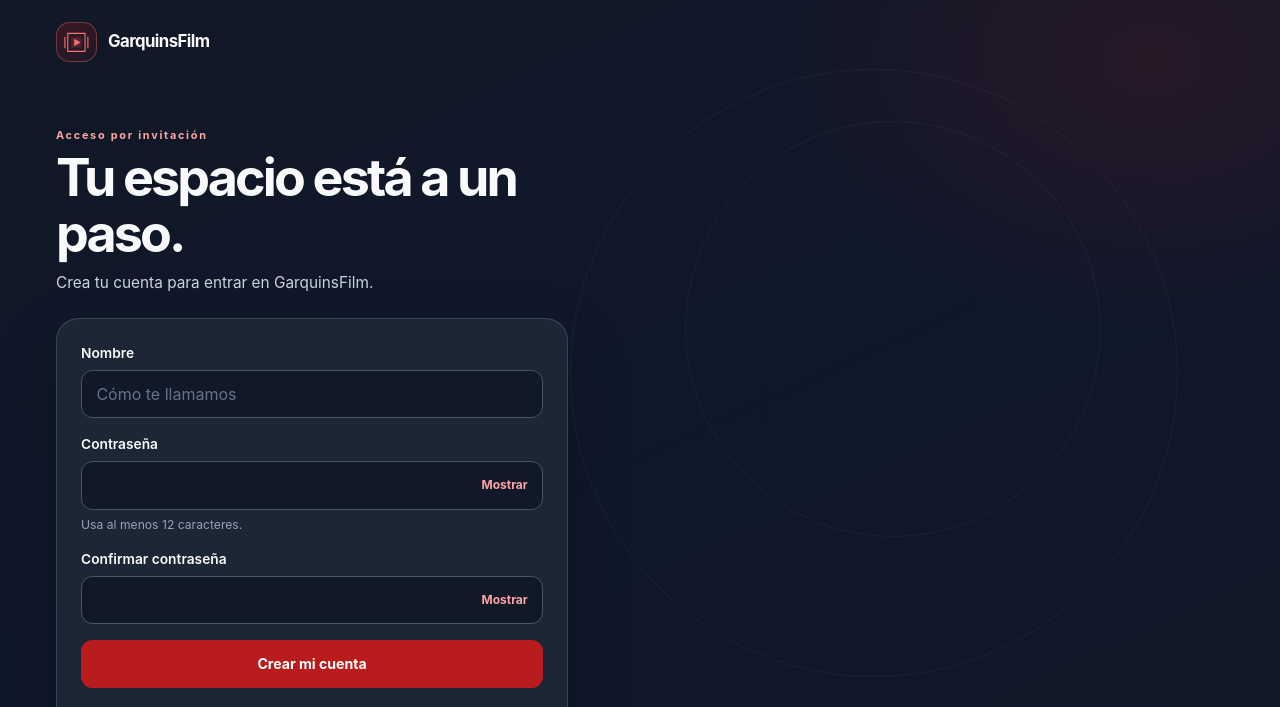
Test case: flujo de autenticación y navegación privada › acepta una invitación válida sin volver a mostrar su token/email en la URL o en la página
This screenshot has width=1280, height=707.
Type "Nueva persona" into the field labelled "Nombre".
click(312, 394); type("Nueva persona")  # box [81,370,543,418]
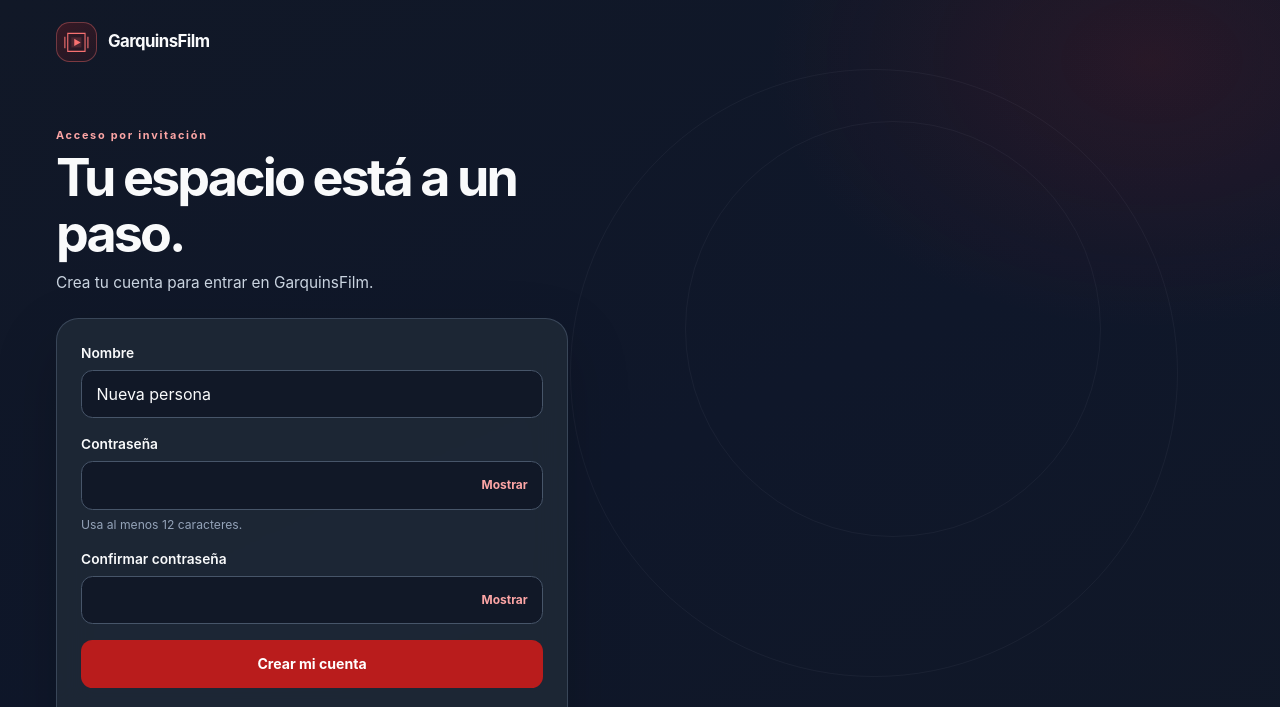
Type "a-secure-password-123" into the password field labelled "Contraseña".
click(312, 485); type("a-secure-password-123")  # box [81,461,543,510]
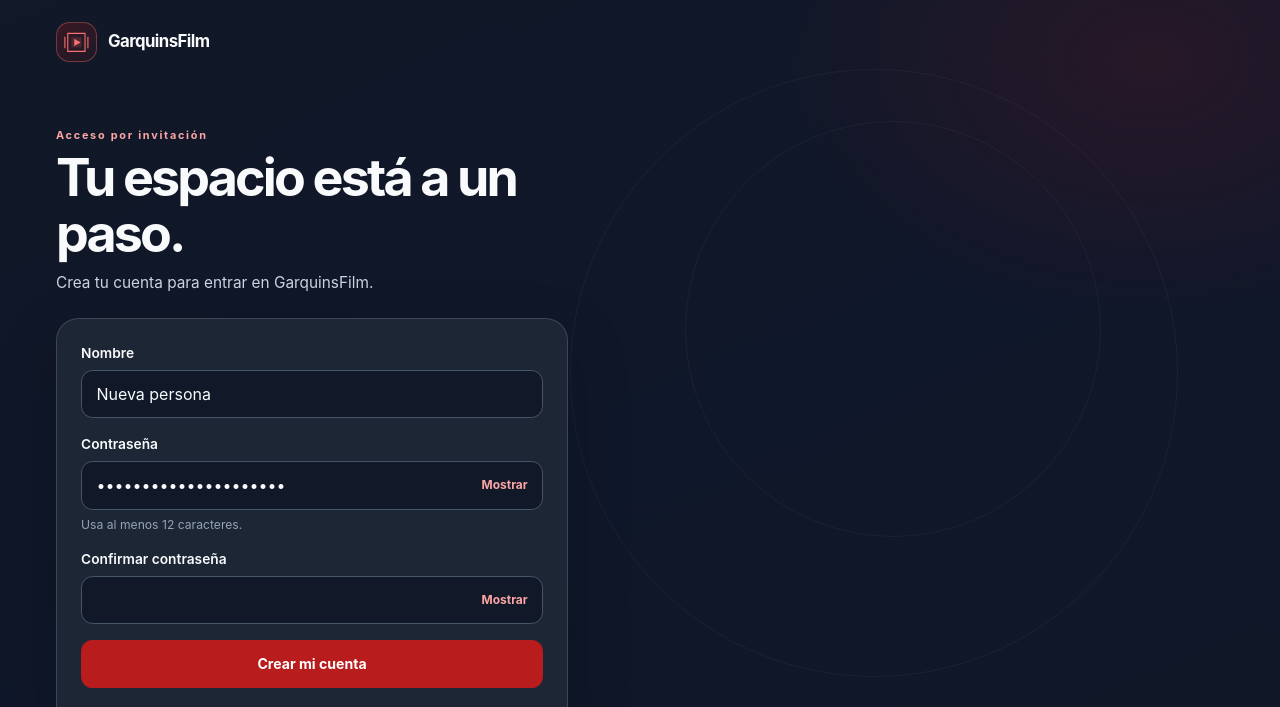
Type "a-secure-password-123" into the password field labelled "Confirmar contraseña".
click(312, 600); type("a-secure-password-123")  # box [81,576,543,624]
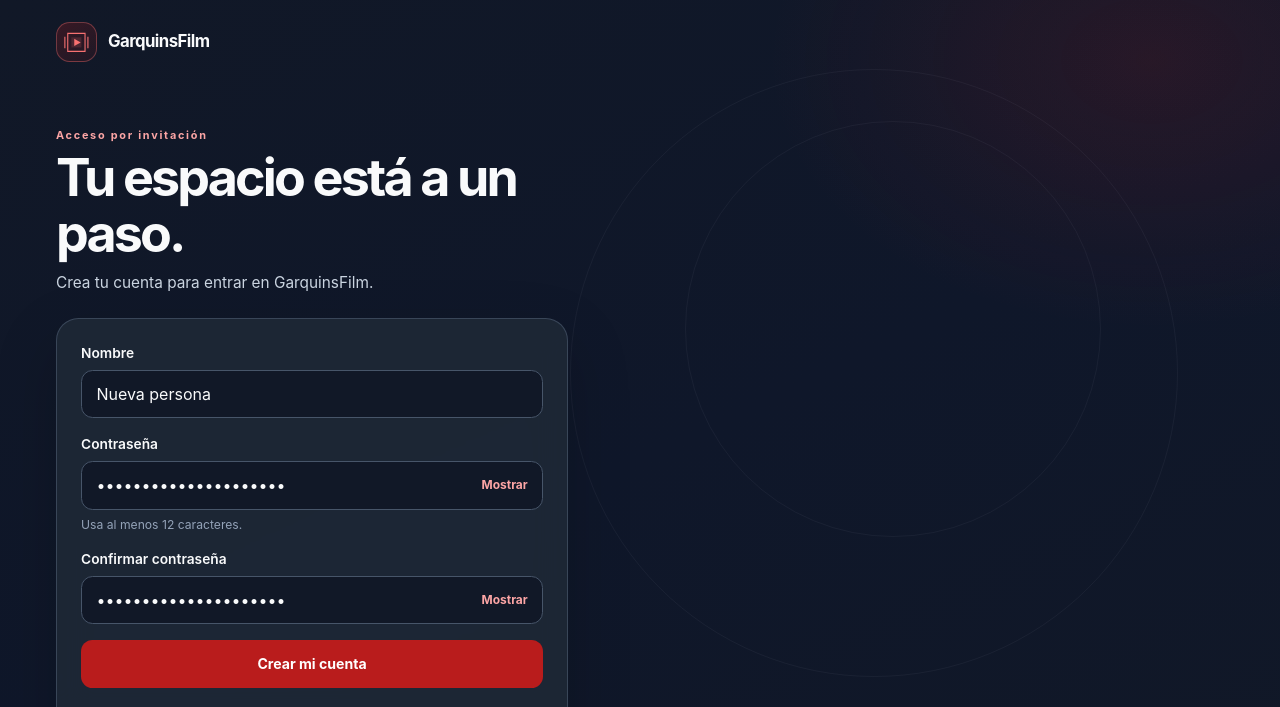
Click the button "Crear mi cuenta".
click(312, 664)  # box [81,640,543,688]
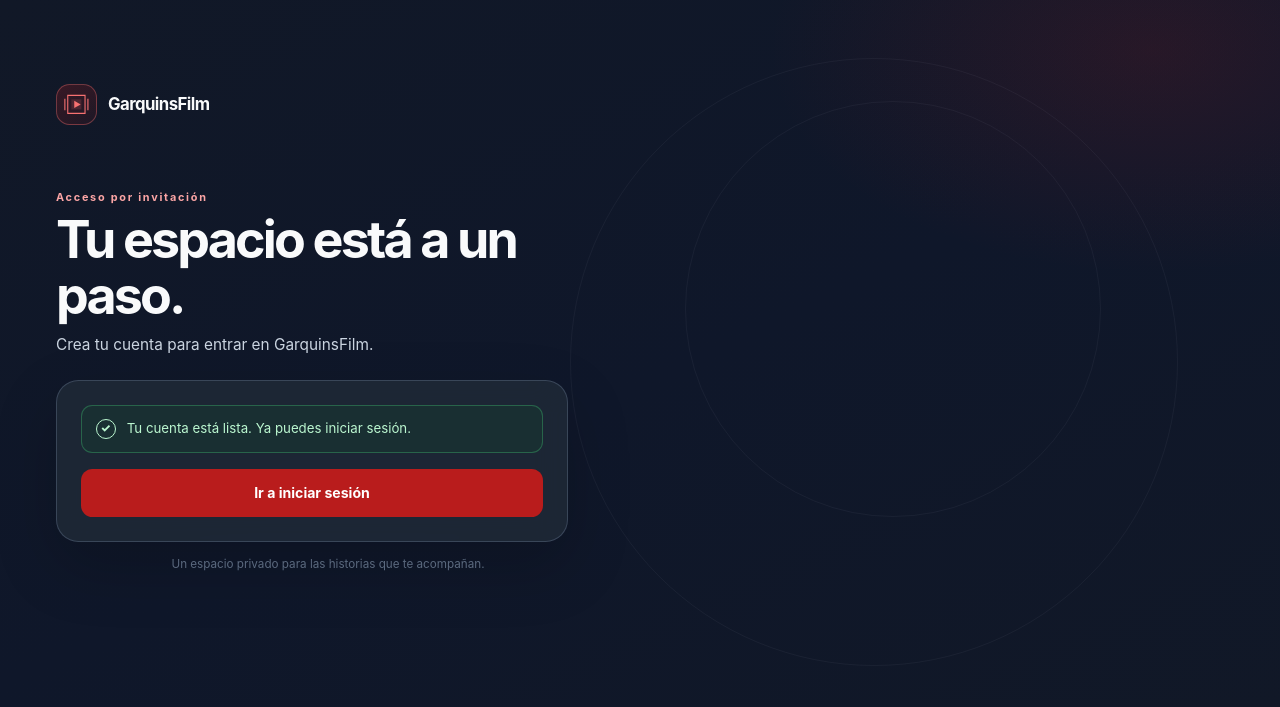
Now the message shows "Tu cuenta está lista", box [127,420,411,436]
